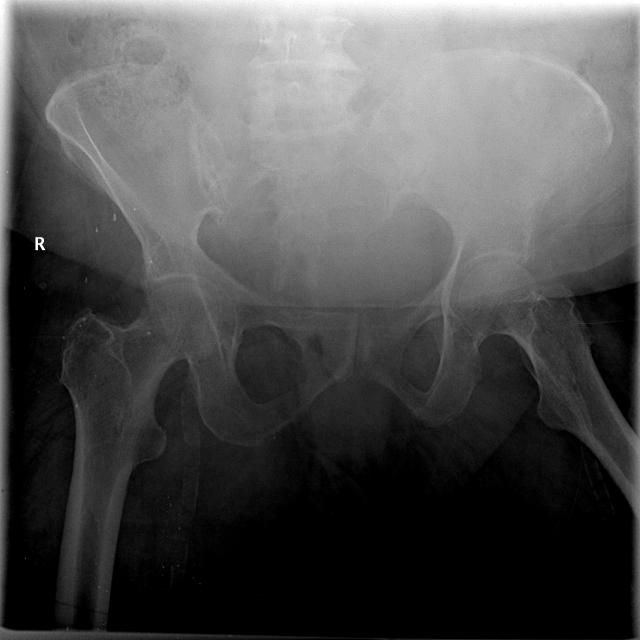normal-left: (460, 259, 639, 522)
normal-right: (58, 282, 219, 574)
